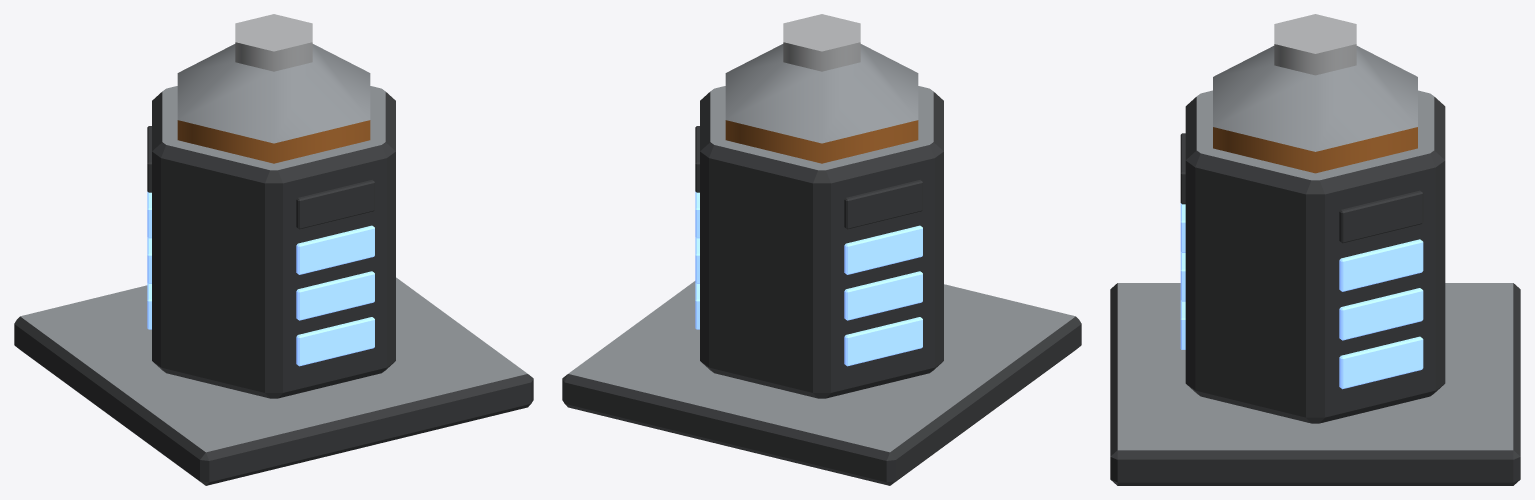
File: R4X_ChargeCapacity_LOD1.fbx
The picture shows the model from 3 angles, left to right: view 1: azimuth 30°, elevation 25°; view 2: azimuth 150°, elevation 25°; view 3: azimuth 270°, elevation 25°; orthographic projection. The views are drawn at different scales.
Parts seen in each view (by area): view 1: R4X_ChargeCapacity_LOD1; view 2: R4X_ChargeCapacity_LOD1; view 3: R4X_ChargeCapacity_LOD1.
Part boxes in pixels (<box>): R4X_ChargeCapacity_LOD1: <box>14,14,533,485</box>; R4X_ChargeCapacity_LOD1: <box>562,14,1081,485</box>; R4X_ChargeCapacity_LOD1: <box>1110,14,1520,485</box>.
Size of the model in its own units: 0.52 by 0.515 by 0.52.
